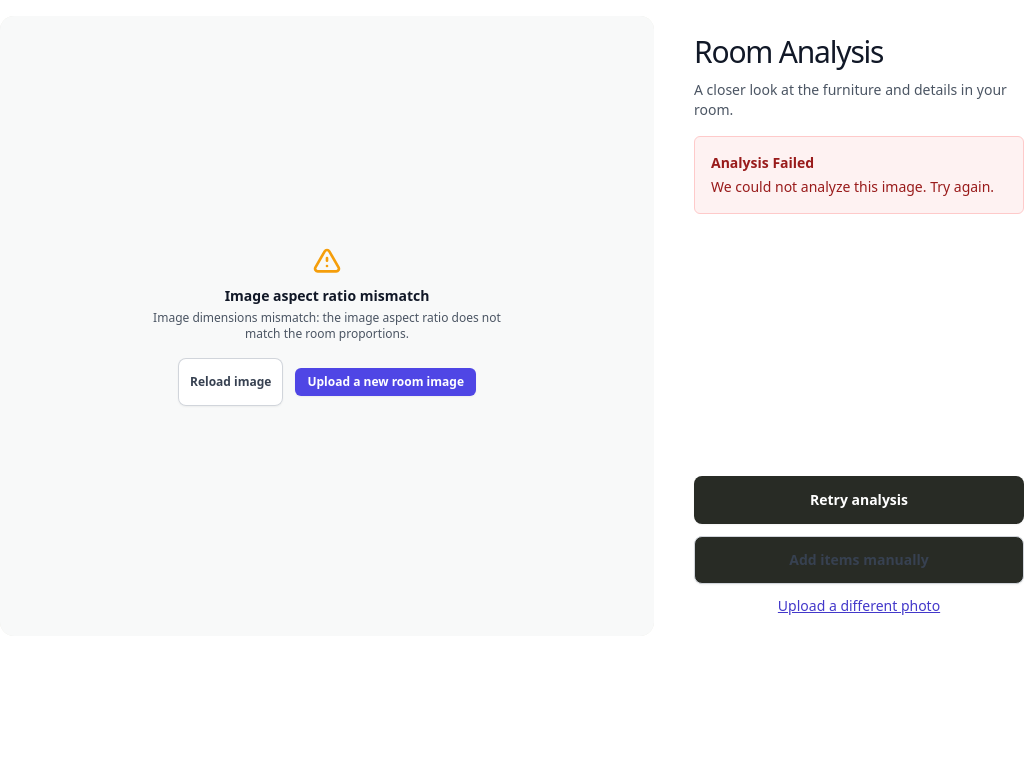
Test: Spring project API integration › retries a failed analysis without recreating or uploading the project
Expected: the message with test id "analysis-error-alert" shows "We could not analyze this image. Try again.", top-left (711, 177), bottom-right (994, 196)
Click the button "Retry analysis". click: (859, 500)
box: top-left (694, 476), bottom-right (1023, 524)
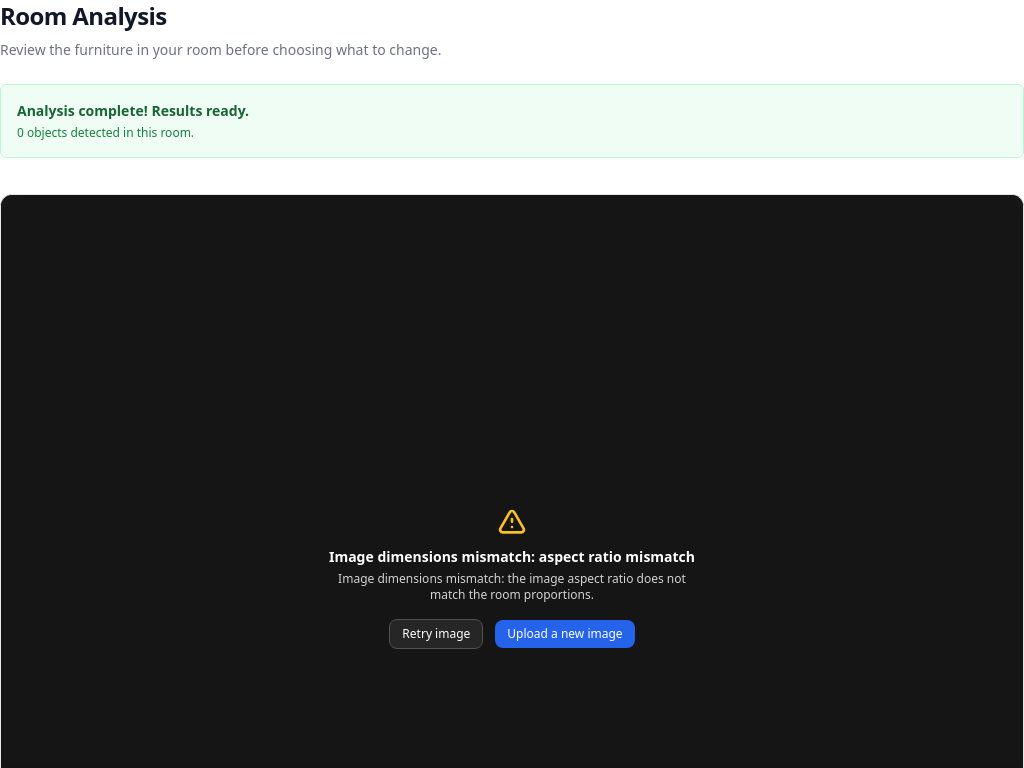
Expected: the text "0 objects detected in this room." is shown, top-left (17, 124), bottom-right (194, 141)
